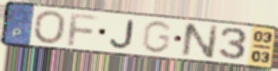3: (218, 27, 250, 62)
F: (66, 12, 101, 48)
G: (139, 20, 174, 55)
J: (108, 19, 136, 50)
N: (180, 22, 220, 60)
O: (32, 9, 68, 46)
